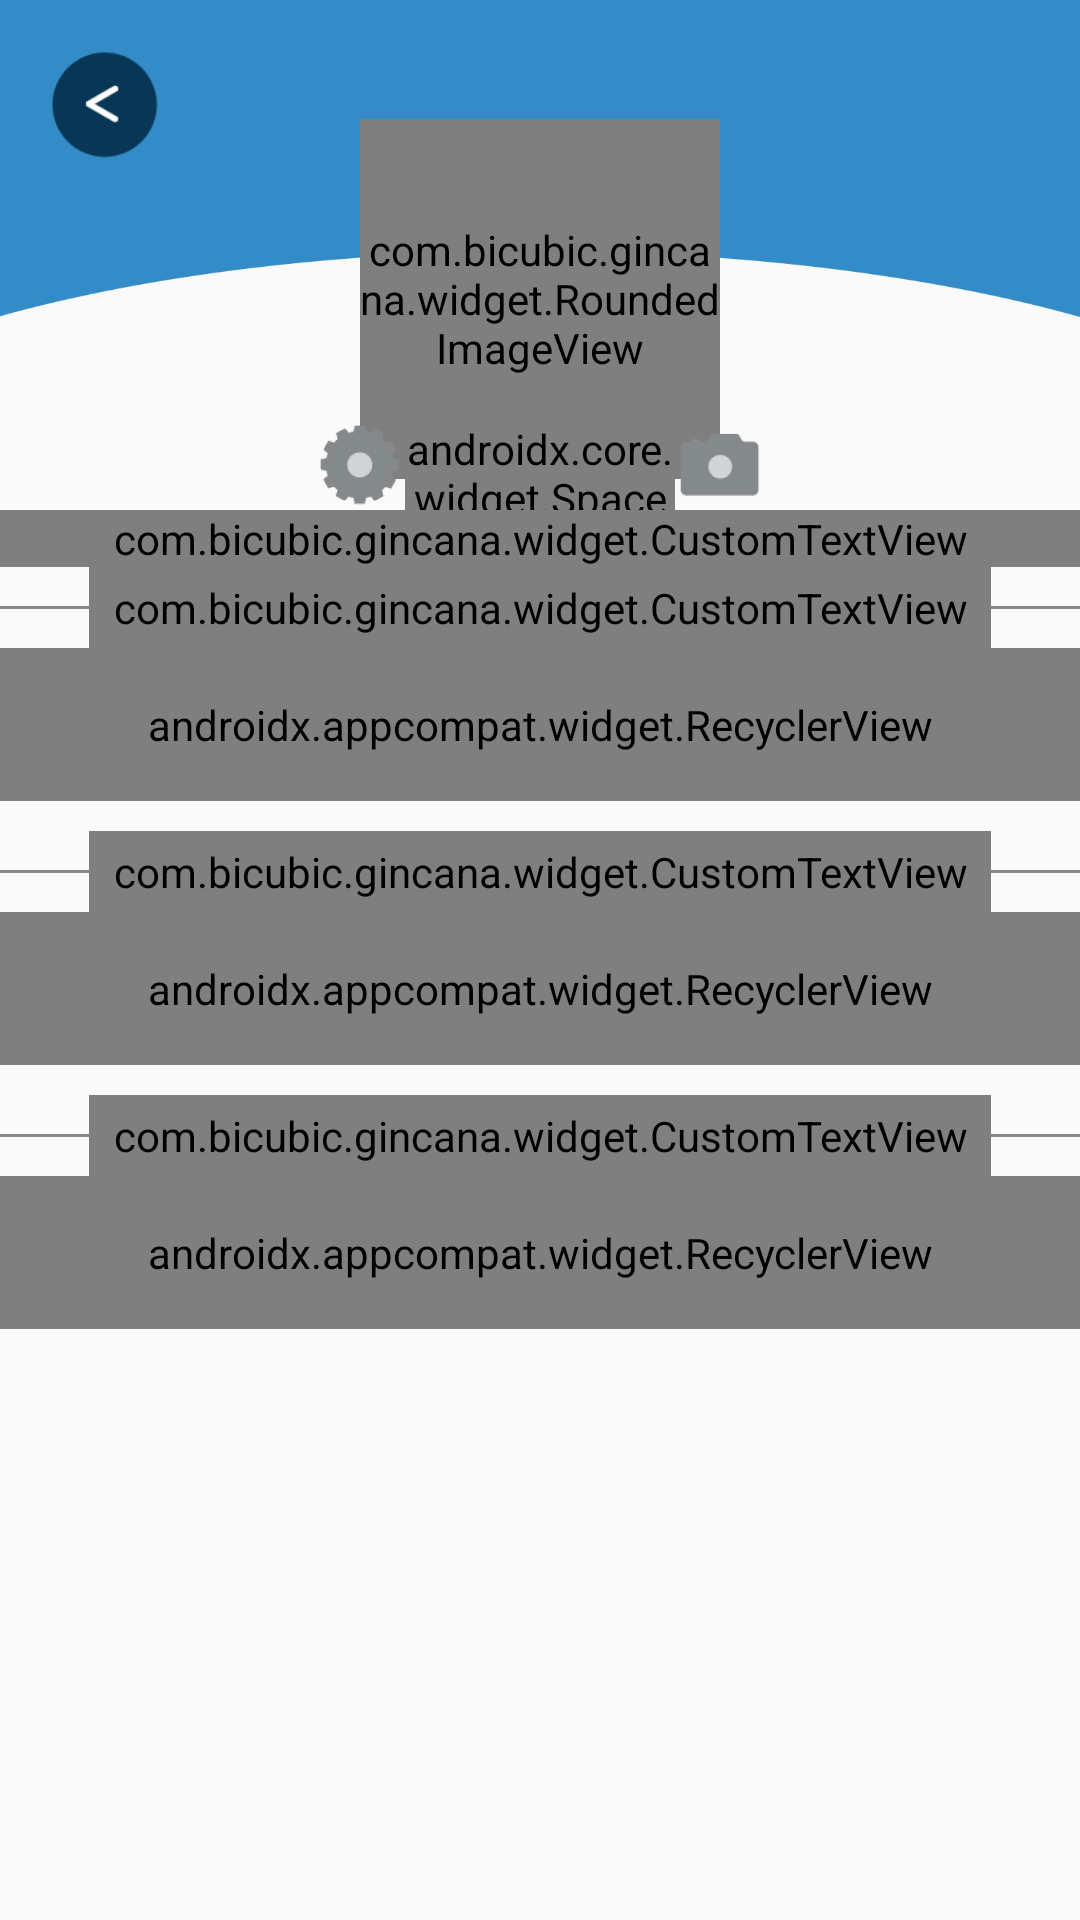

Point at icon controls on the screen. Image size 1080px×1920px, points as (x=x, y=y).
profile camera: (x=720, y=465)
profile setting: (x=360, y=465)
